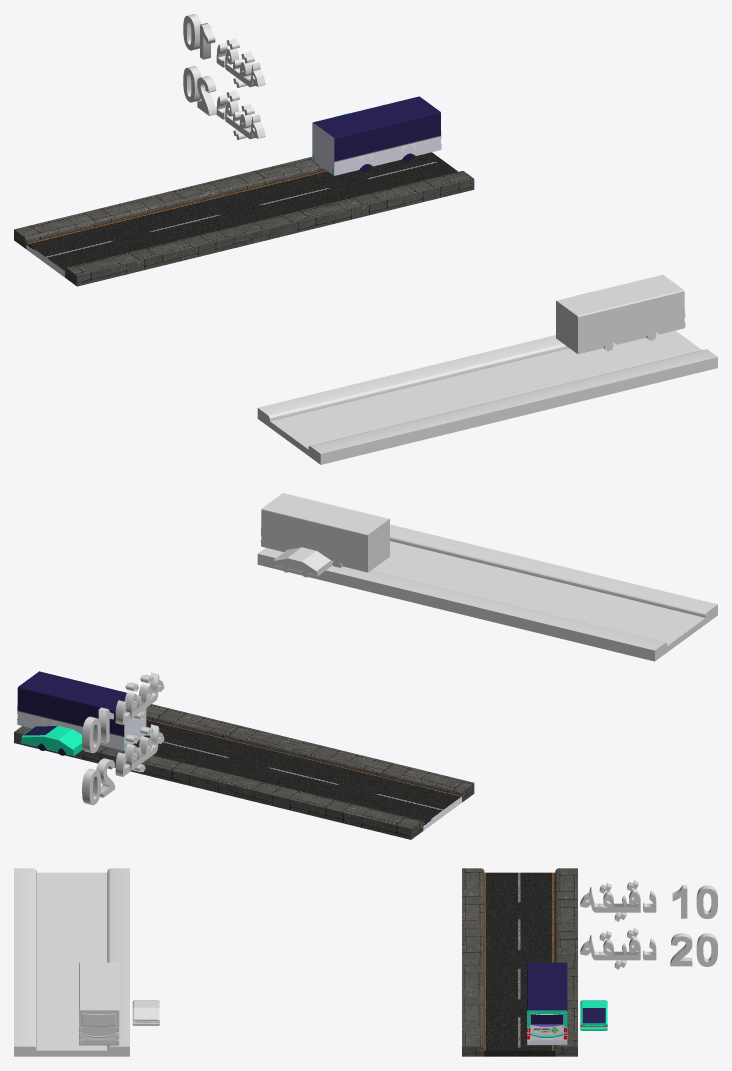
File: the game AR2.fbx
3 views of the same model, one above another, from view 1: azimuth 30°, elevation 25°; view 2: azimuth 150°, elevation 25°; view 3: azimuth 270°, elevation 25° (orthographic). The views are drawn at different scales.
Visible parts, largest first — view 1: Cube.003, Cube, Cube.005, Cube.002, Text, Text.001; view 2: Cube, Cube.003, Cube.002, Cube.005, Text, Text.001, Cube.004, Cube.001; view 3: Cube, Cube.003, Cube.005, Cube.002, Text, Text.001, Cube.004, Cube.001.
Boxes of the visible parts, bbox=[...] form: Cube.003: bbox=[14, 152, 474, 286]; Cube: bbox=[257, 330, 717, 464]; Cube.005: bbox=[312, 96, 441, 175]; Cube.002: bbox=[556, 275, 685, 354]; Text: bbox=[183, 66, 265, 139]; Text.001: bbox=[183, 14, 265, 87]; Cube: bbox=[257, 524, 717, 661]; Cube.003: bbox=[14, 704, 474, 839]; Cube.002: bbox=[260, 493, 389, 572]; Cube.005: bbox=[17, 671, 146, 750]; Text: bbox=[82, 724, 164, 805]; Text.001: bbox=[82, 672, 164, 753]; Cube.004: bbox=[20, 725, 83, 755]; Cube.001: bbox=[272, 547, 331, 576]; Cube: bbox=[14, 868, 129, 1056]; Cube.003: bbox=[462, 868, 577, 1056]; Cube.005: bbox=[527, 962, 567, 1045]; Cube.002: bbox=[79, 962, 119, 1045]; Text: bbox=[580, 928, 717, 969]; Text.001: bbox=[580, 880, 717, 921]; Cube.004: bbox=[580, 1000, 607, 1030]; Cube.001: bbox=[132, 1000, 159, 1025].
Bounding box in the file's own units: 645 × 182 × 1069.
